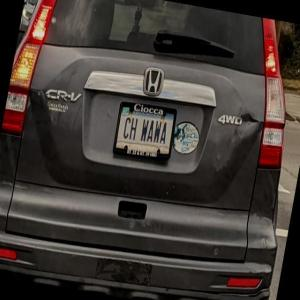Plate: (112, 101, 177, 160)
